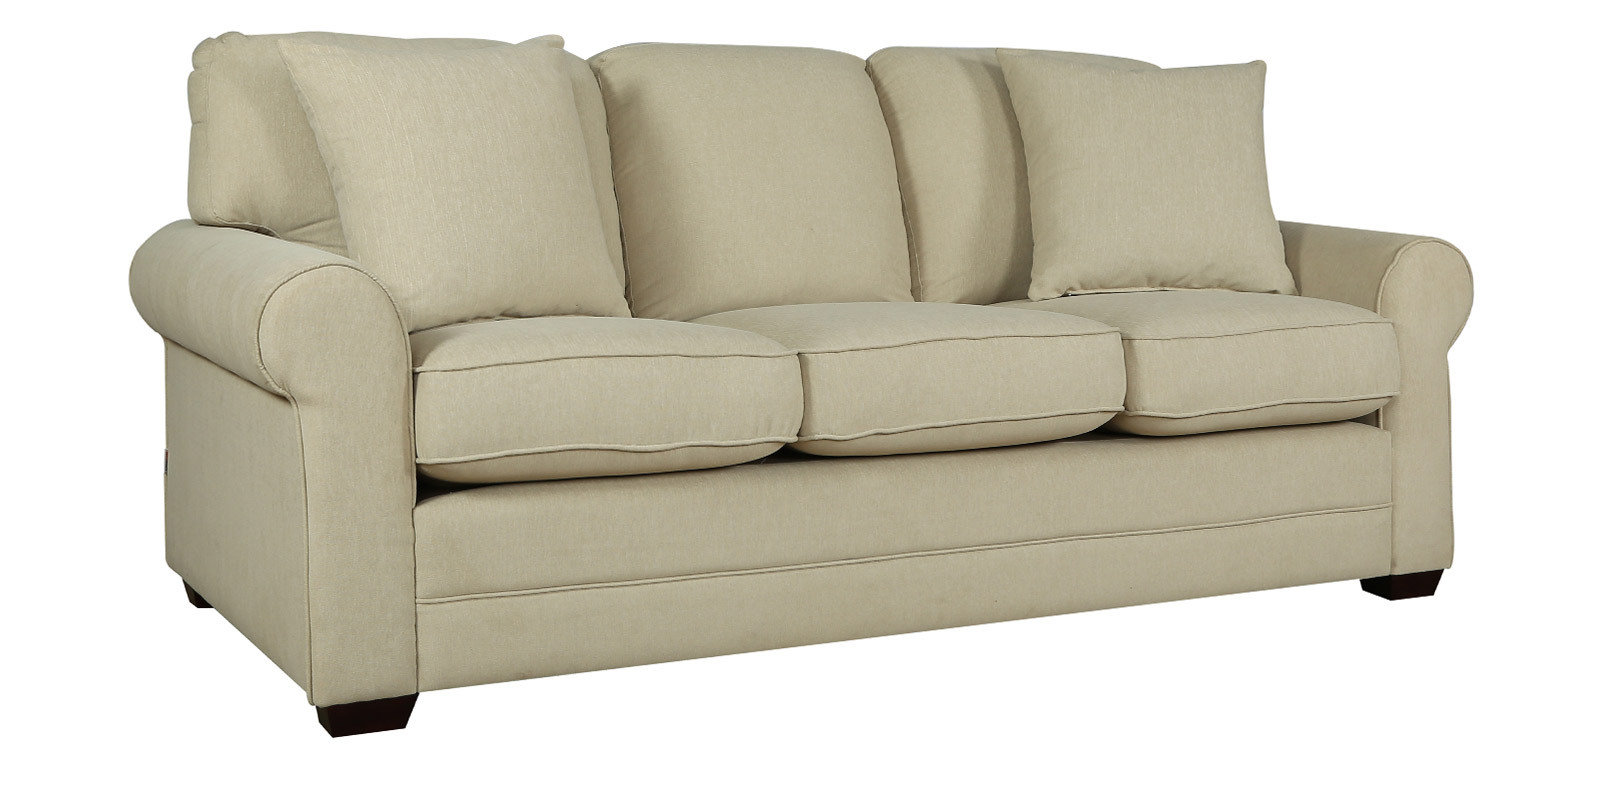Madeira Three Seater Sofa in Beige Colour by CasaCraft: (128, 32, 1476, 741)
